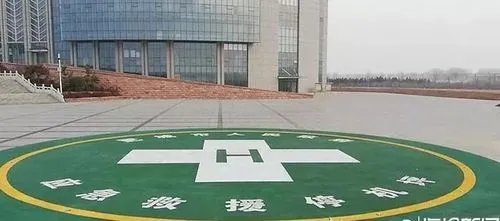Apron: (1, 129, 475, 220)
